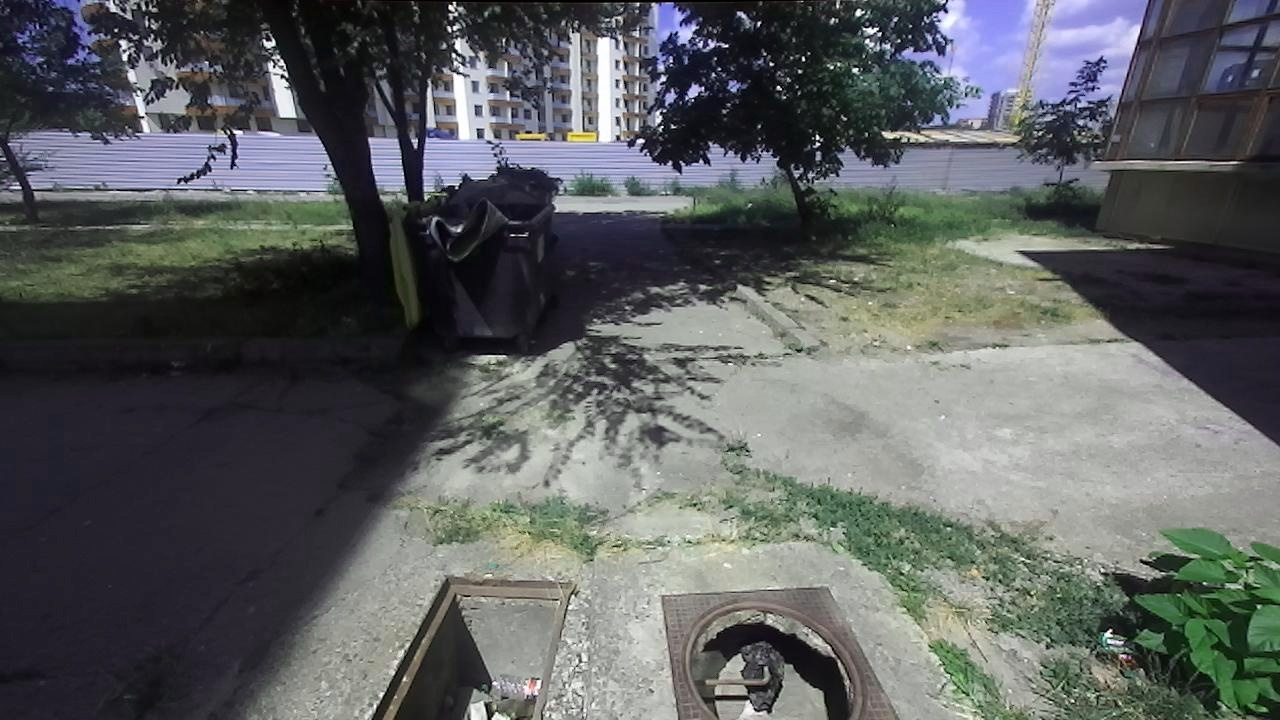drain: (369, 572, 576, 719), (685, 600, 881, 720)
